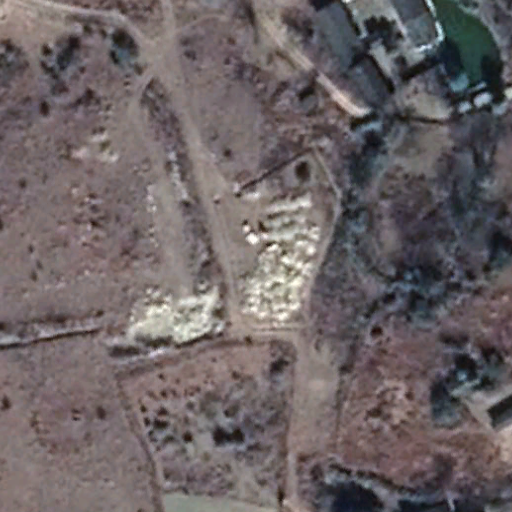msw: (235, 187, 318, 324)
